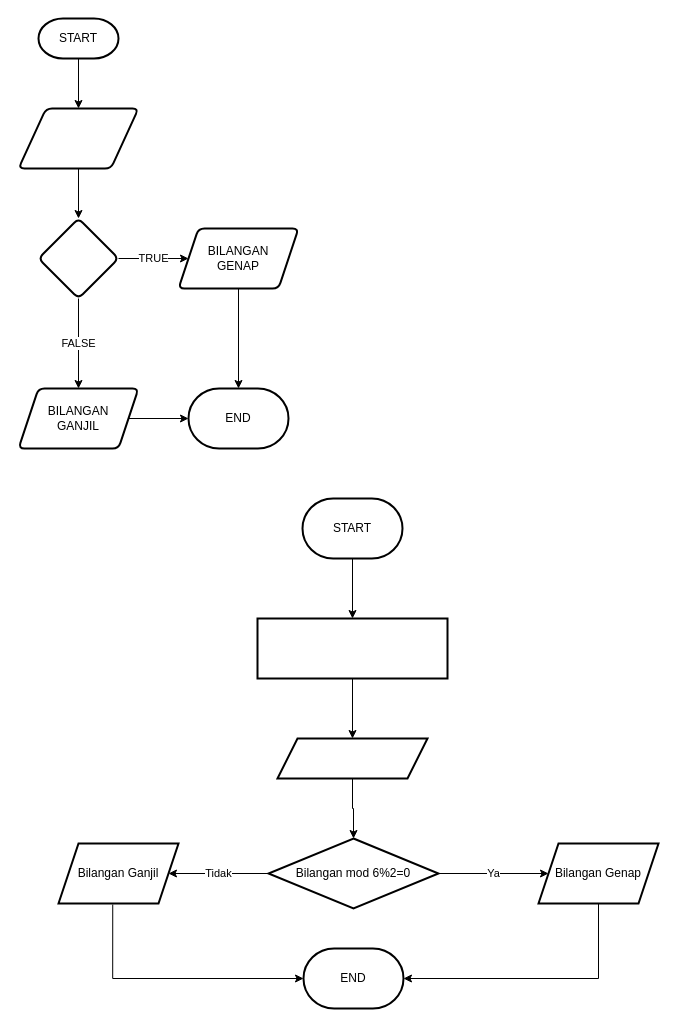
Some shapes in this 676 by 1026 pixel diagram are drawn without their labels. Each missing label, with the box of its shape:
BIL%2: (37, 217, 119, 299)
BILANGAN POSITIF: (17, 107, 139, 169)
Input Nilai Bilangan 6: (276, 737, 428, 779)
Jika bil %2=0, maka genap Jika bil %2=/=0, maka ganjil: (256, 617, 448, 679)
